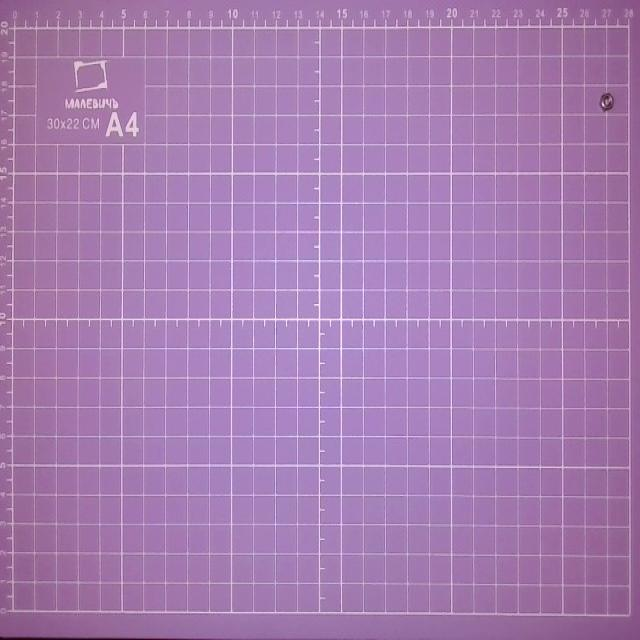screw_M3: (598, 89, 616, 116)
